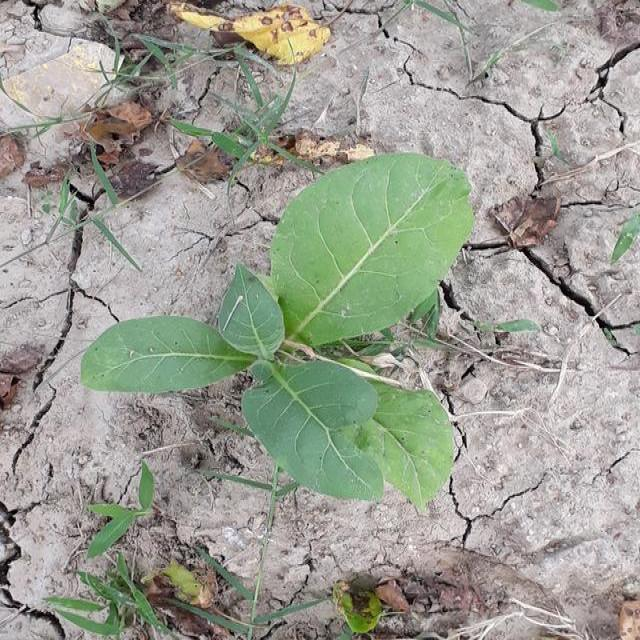crop: (96, 185, 471, 542)
